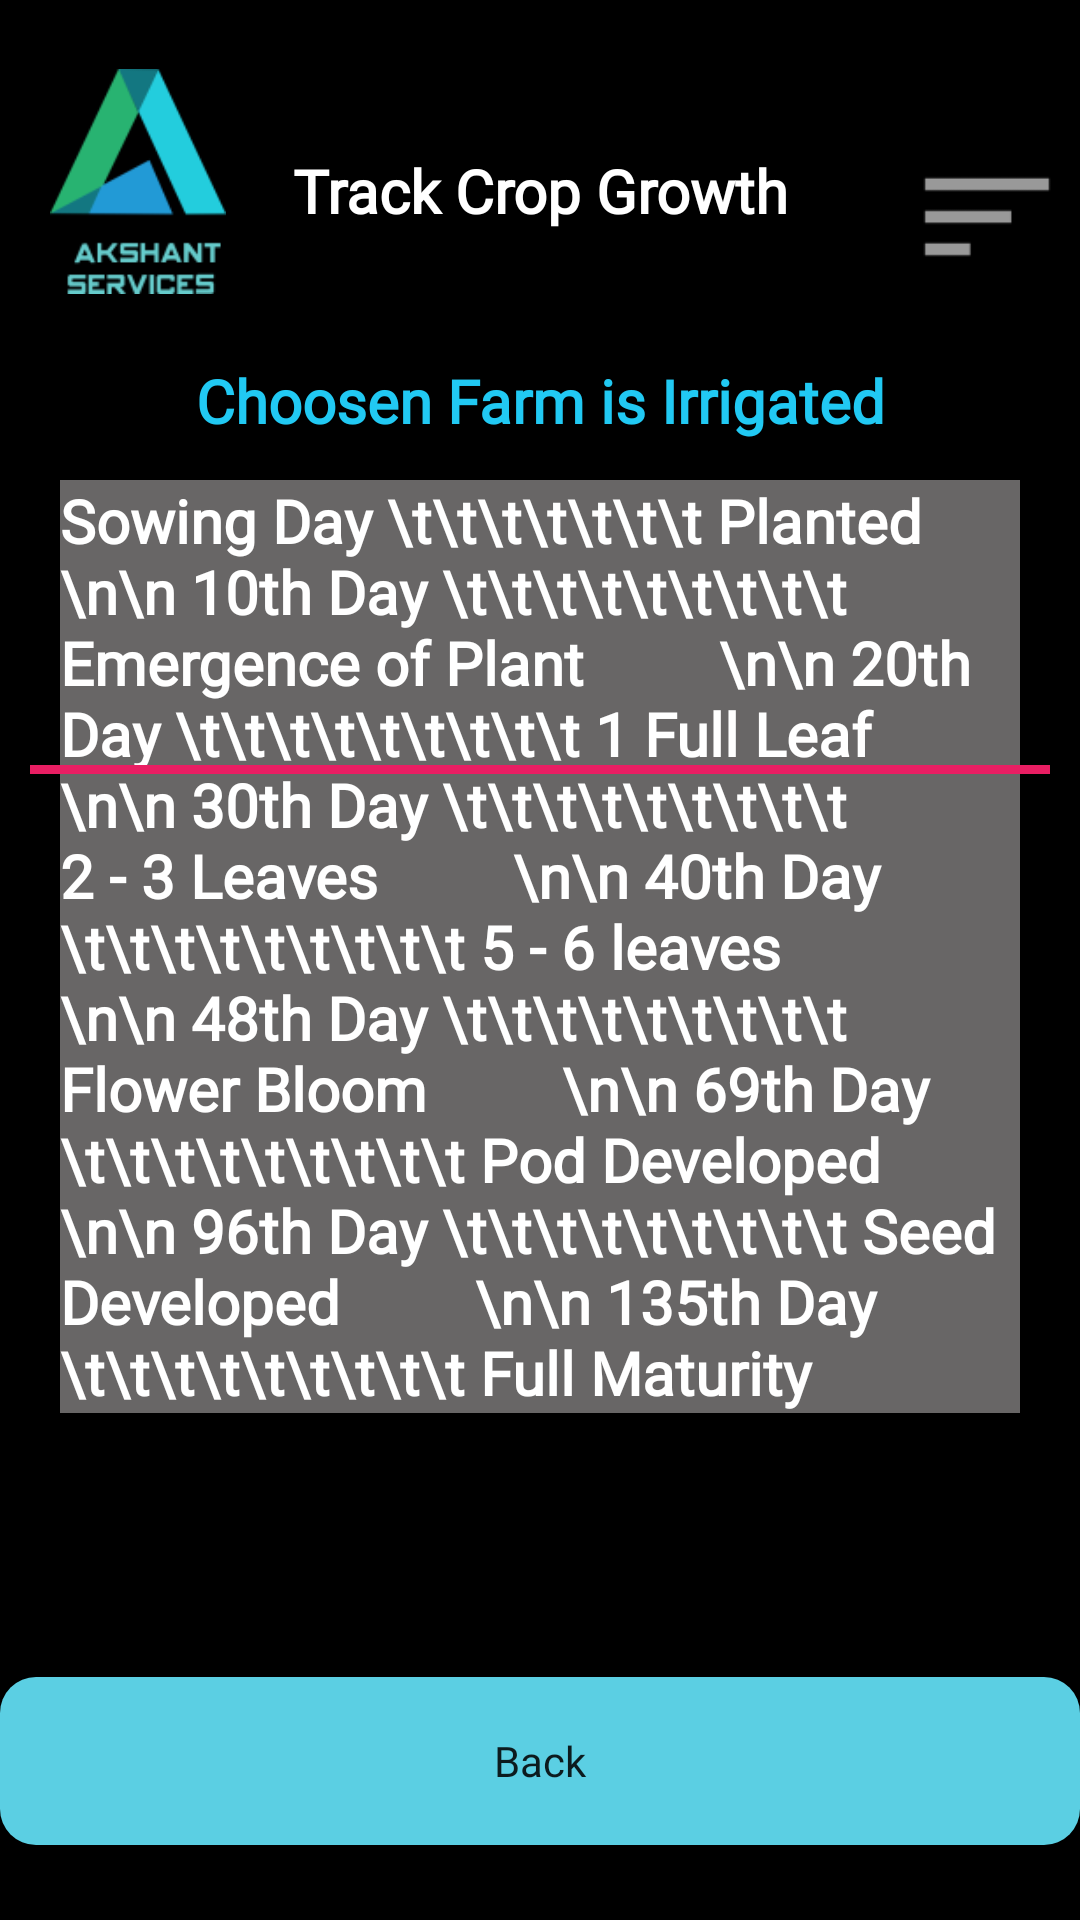

Where icons sit on this 1080x1920 app screen, as (x1, y1, x2, y2):
sort by size: (924, 177, 1050, 256)
